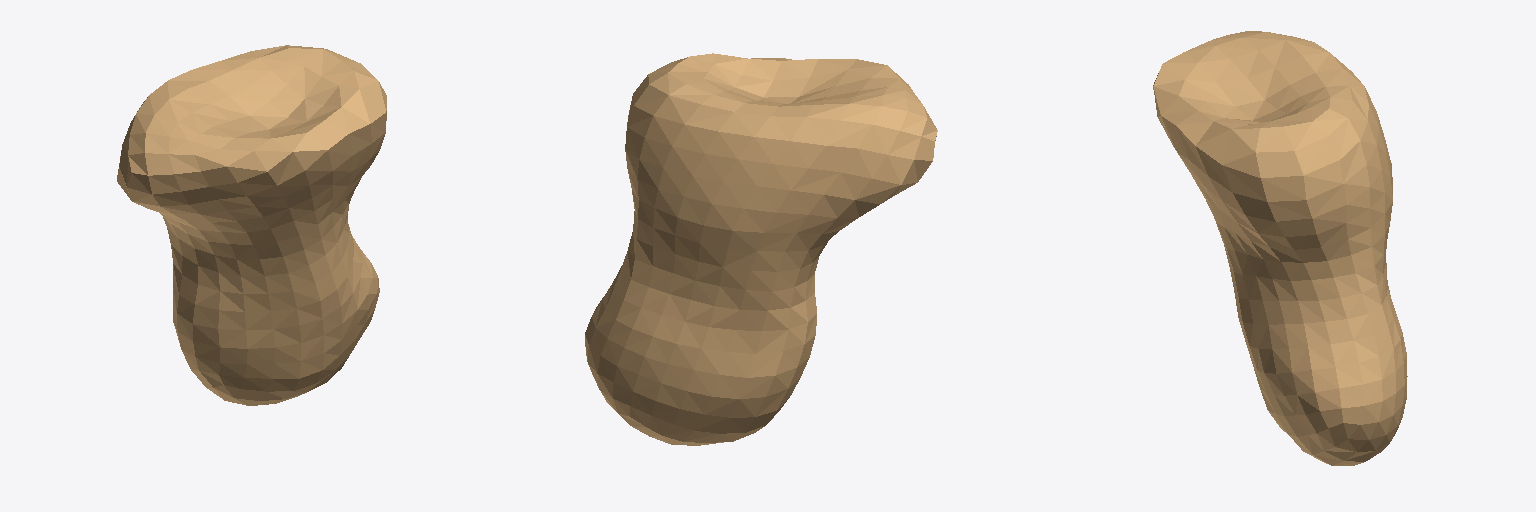
File: DistalPhalanx_3.obj
3 renders of one model, left to right at view 1: azimuth 30°, elevation 25°; view 2: azimuth 150°, elevation 25°; view 3: azimuth 270°, elevation 25°, orthographic.
Parts seen in each view (by area): view 1: Object_0DistalPhalanx_3; view 2: Object_0DistalPhalanx_3; view 3: Object_0DistalPhalanx_3.
Part boxes in pixels (bbox=[...]): Object_0DistalPhalanx_3: bbox=[117, 45, 386, 405]; Object_0DistalPhalanx_3: bbox=[585, 53, 937, 445]; Object_0DistalPhalanx_3: bbox=[1153, 31, 1407, 465].
Size of the model in its own units: 12.43 by 14.18 by 9.33.